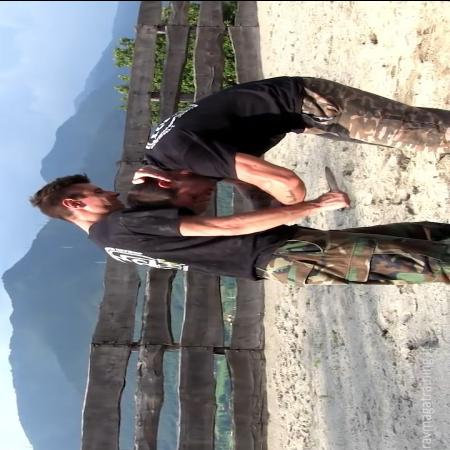long weapon: (315, 162, 354, 212)
